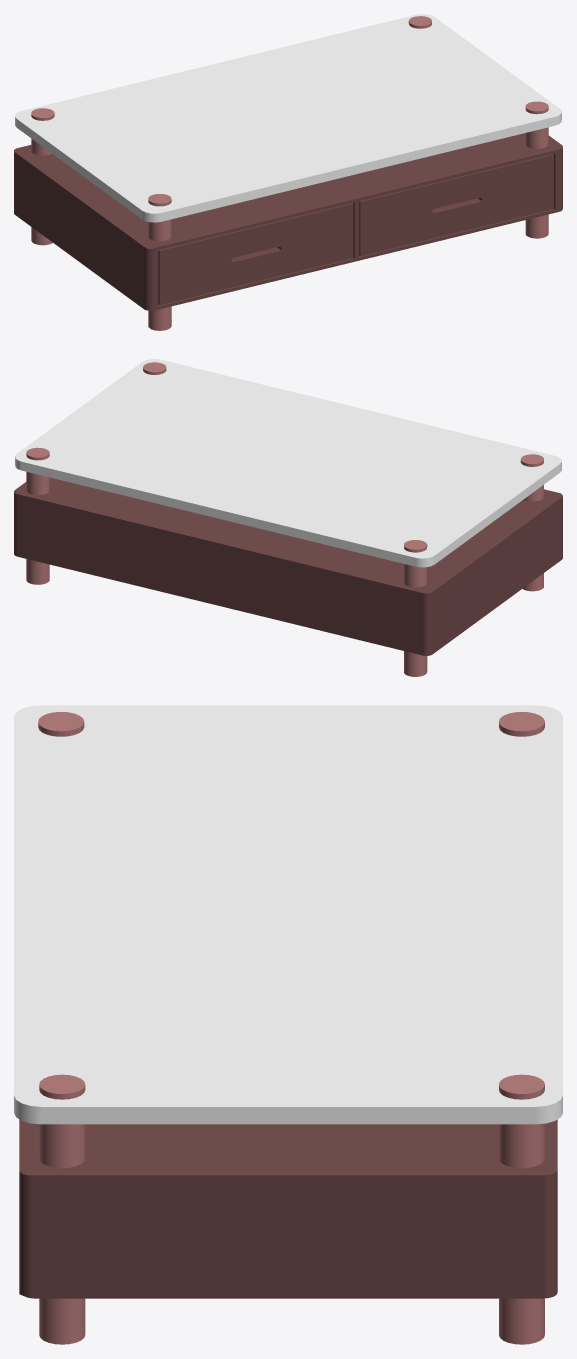
The model's file is TableCenter.fbx.
3 renders of one model, top to bottom at view 1: azimuth 30°, elevation 25°; view 2: azimuth 150°, elevation 25°; view 3: azimuth 270°, elevation 25°, orthographic. The views are drawn at different scales.
Parts seen in each view (by area): view 1: pCube2, pCube1, pCylinder4, pCylinder1, pCylinder3; view 2: pCube2, pCube1, pCylinder3, pCylinder2, pCylinder4; view 3: pCube2, pCube1, pCylinder1, pCylinder2, pCylinder4, pCylinder3.
Boxes of the visible parts, x1,y1,x2,y2 form: pCube2: [15, 14, 561, 222]; pCube1: [14, 133, 562, 310]; pCylinder4: [148, 194, 171, 330]; pCylinder1: [525, 101, 548, 238]; pCylinder3: [31, 108, 54, 245]; pCube2: [15, 359, 561, 567]; pCube1: [14, 477, 562, 655]; pCylinder3: [404, 540, 427, 676]; pCylinder2: [26, 447, 49, 584]; pCylinder4: [520, 454, 543, 591]; pCube2: [14, 705, 562, 1124]; pCube1: [19, 1119, 557, 1298]; pCylinder1: [39, 1074, 85, 1344]; pCylinder2: [499, 1074, 544, 1344]; pCylinder4: [38, 711, 84, 736]; pCylinder3: [499, 712, 544, 736].
Bounding box in the file's own units: 10.92 × 3.18 × 6.31.
